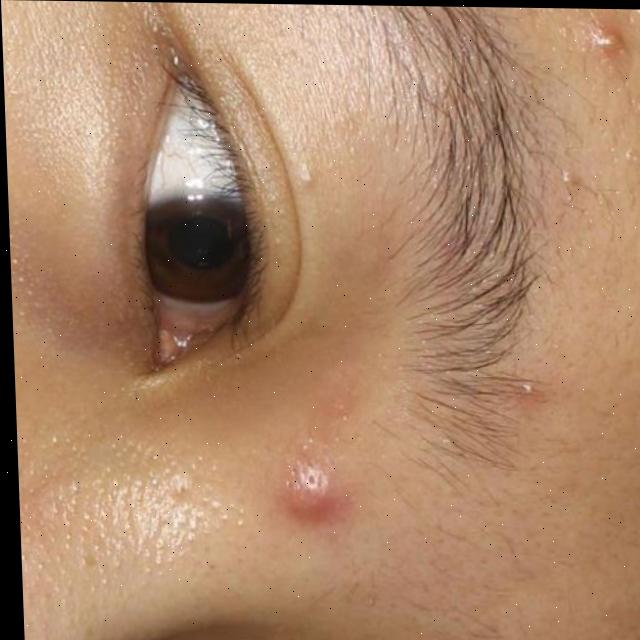Acne: (283, 467, 339, 524), (586, 33, 629, 62)
